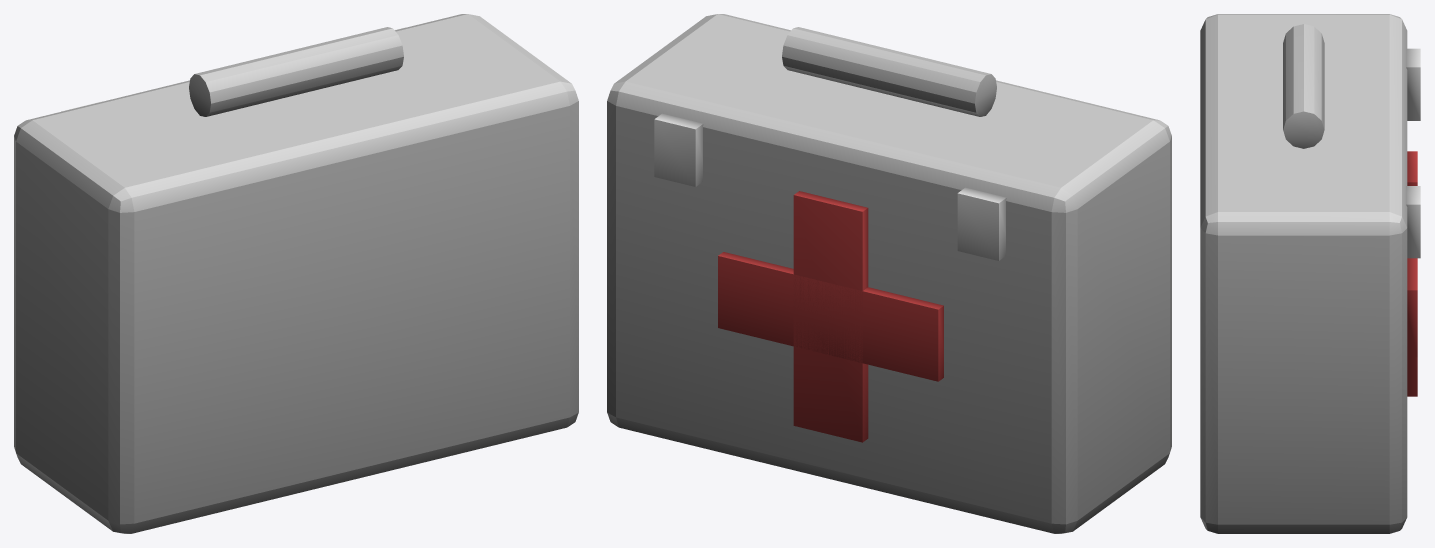
File: Loot_Medkit.fbx
3 renders of one model, left to right at view 1: azimuth 30°, elevation 25°; view 2: azimuth 150°, elevation 25°; view 3: azimuth 270°, elevation 25°, orthographic. The views are drawn at different scales.
Parts seen in each view (by area): view 1: Loot_Medkit; view 2: Loot_Medkit; view 3: Loot_Medkit.
Boxes of the visible parts, <box> form: Loot_Medkit: <box>14,14,578,533</box>; Loot_Medkit: <box>607,14,1171,533</box>; Loot_Medkit: <box>1200,14,1420,533</box>.
Bounding box in the file's own units: 0.34 × 0.274 × 0.149.
